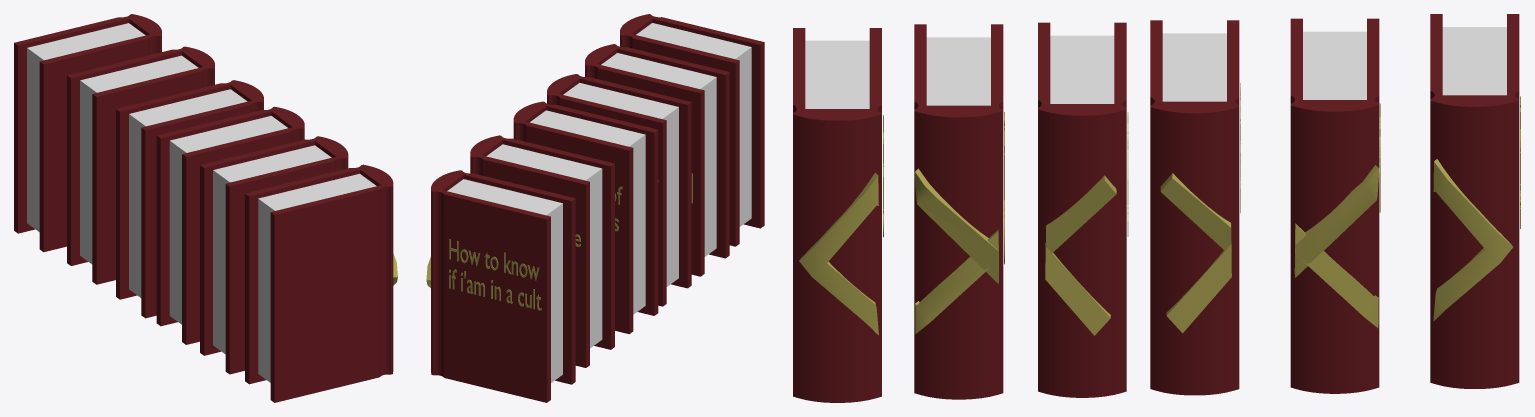
File: Book.fbx
The picture shows the model from 3 angles, left to right: view 1: azimuth 30°, elevation 25°; view 2: azimuth 150°, elevation 25°; view 3: azimuth 270°, elevation 25°; orthographic projection. The views are drawn at different scales.
Visible parts, largest first — view 1: Cube.001, Cube.008, Cube.004, Cube.002, Plane.004, Plane.003; view 2: Cube.008, Plane.003, Cube.004, Cube.002, Cube.001, Plane.004; view 3: Cube.002, Cube.004, Plane.003, Cube.008, Plane.004, Cube.001.
Part boxes in pixels (x1,y1,x2,y2): Cube.001: (245,164,397,402); Cube.008: (14,14,161,252); Cube.004: (67,46,214,284); Cube.002: (200,136,348,374); Plane.004: (156,106,304,344); Plane.003: (116,80,263,318); Cube.008: (426,170,575,402); Plane.003: (513,101,658,334); Cube.004: (470,135,614,367); Cube.002: (585,44,729,276); Cube.001: (620,14,764,246); Plane.004: (547,74,691,306); Cube.002: (914,24,1004,399); Cube.004: (1290,18,1380,393); Plane.003: (1150,20,1240,395); Cube.008: (1430,14,1520,388); Plane.004: (1038,22,1128,397); Cube.001: (793,28,883,402).
Size of the model in its own units: 253 by 304 by 711.
